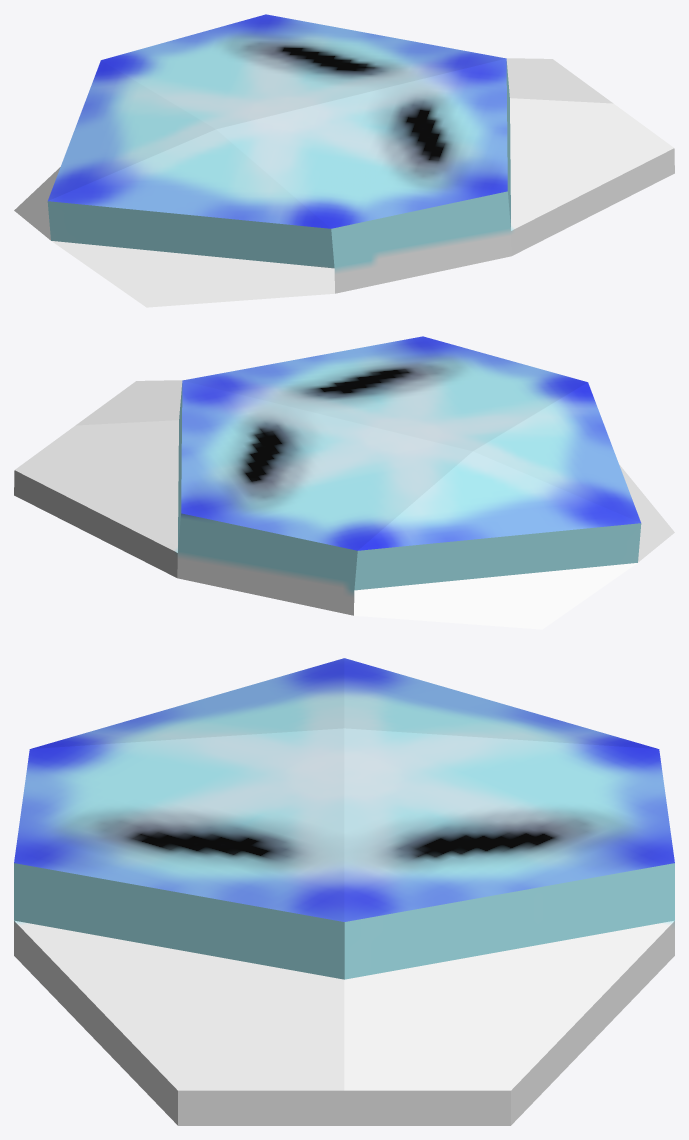
The model's file is ice_mask.glb.
The picture shows the model from 3 angles, top to bottom: view 1: azimuth 30°, elevation 25°; view 2: azimuth 150°, elevation 25°; view 3: azimuth 270°, elevation 25°; orthographic projection. The views are drawn at different scales.
Parts seen in each view (by area): view 1: Plane; view 2: Plane; view 3: Plane.
Part boxes in pixels (x1=…): Plane: x1=14, y1=14, x2=674, y2=307; Plane: x1=14, y1=336, x2=674, y2=629; Plane: x1=14, y1=658, x2=674, y2=1125.
Size of the model in its own units: 2.7 by 0.4409 by 2.
1 material, 1 textured.
